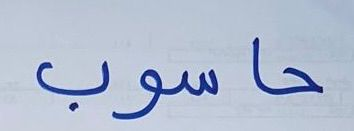beh: (35, 52, 110, 112), (249, 32, 266, 98)
hah: (268, 63, 326, 99)
seen: (170, 65, 221, 99)
waw: (111, 65, 167, 122)
